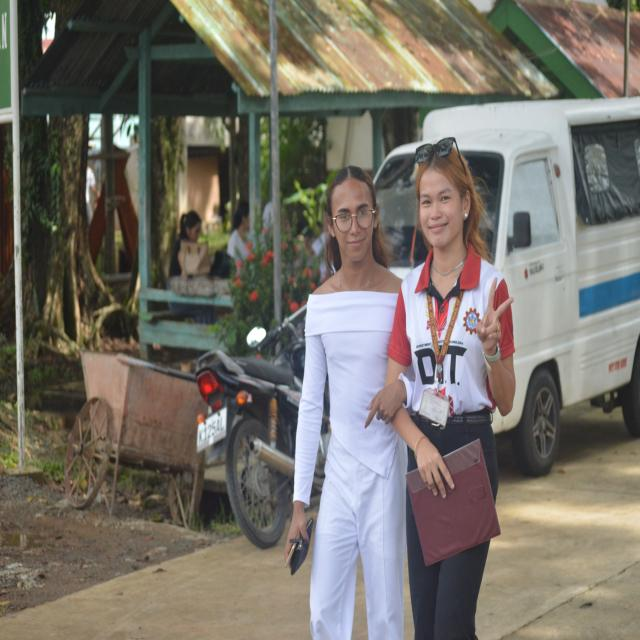person: (288, 167, 406, 639), (370, 138, 515, 499), (169, 211, 201, 278), (227, 201, 249, 261)
